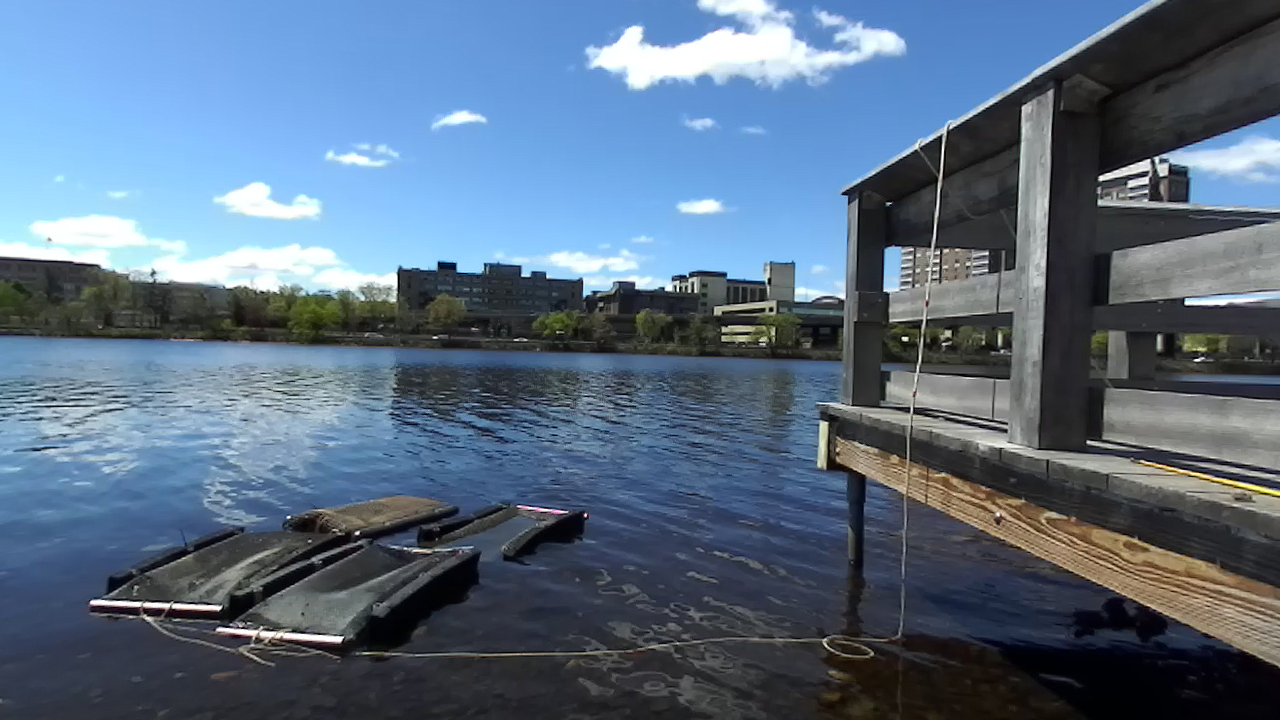bag: (226, 543, 479, 649), (91, 532, 335, 616), (418, 502, 584, 553), (286, 492, 461, 536)
